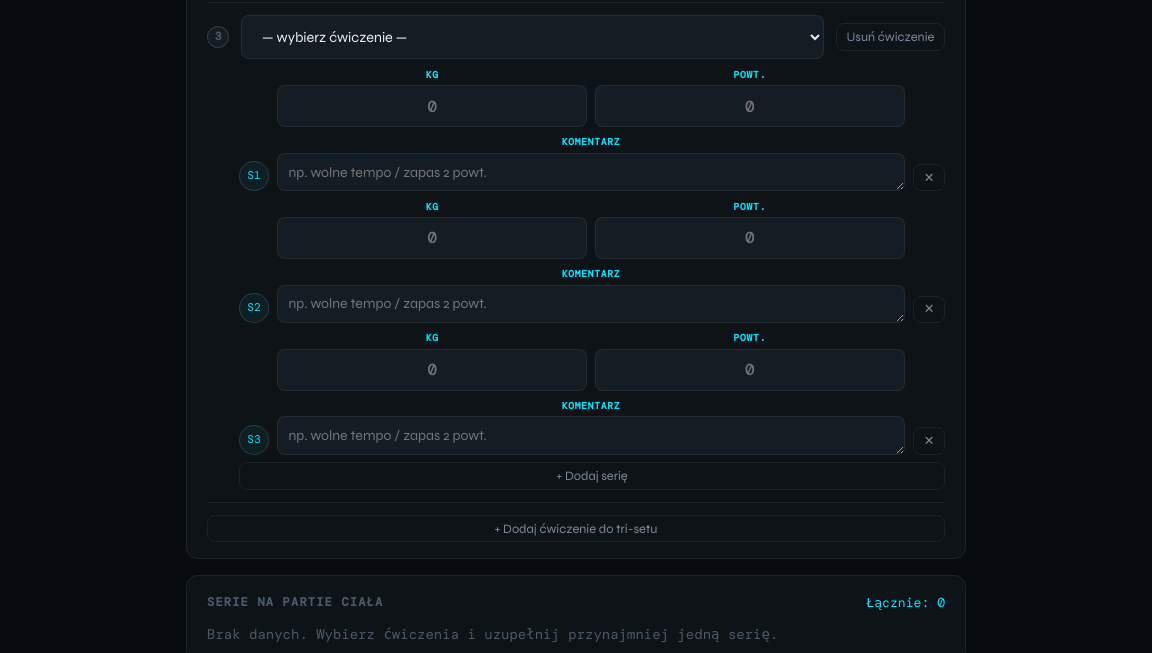
NewSession exercise suggestions › allows adding the 4th exercise to triset
(page scrolled)
Click the button "+ Dodaj ćwiczenie do tri-setu".
click(576, 529)  # box [207,515,945,542]
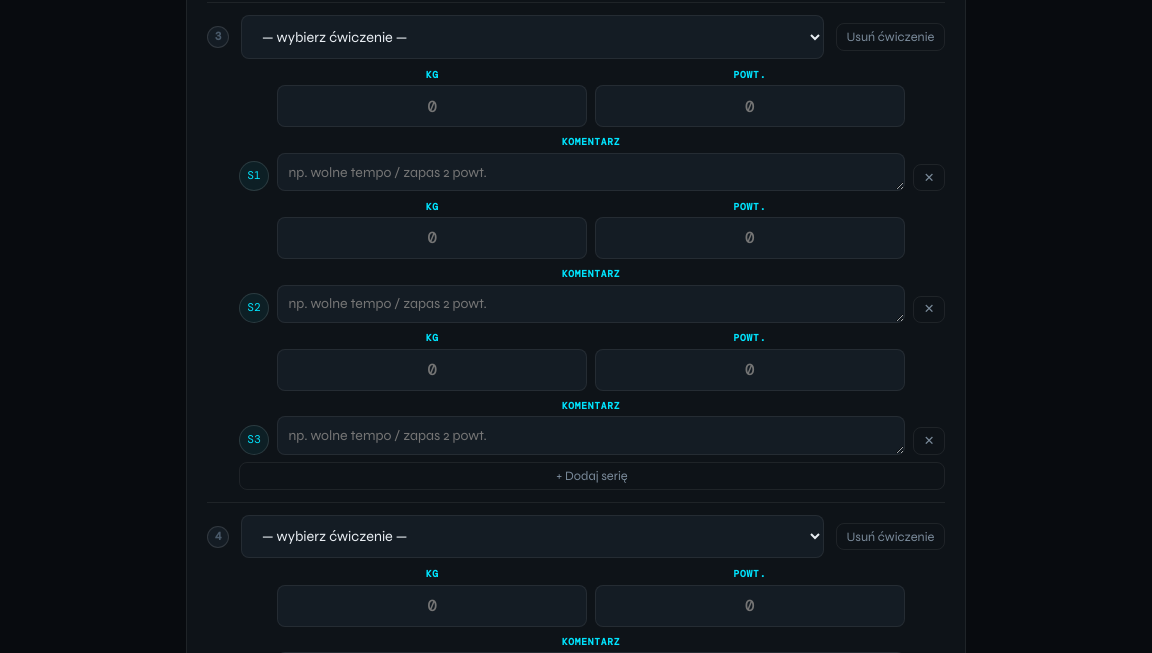
Expected: the number of dropdowns is 4
